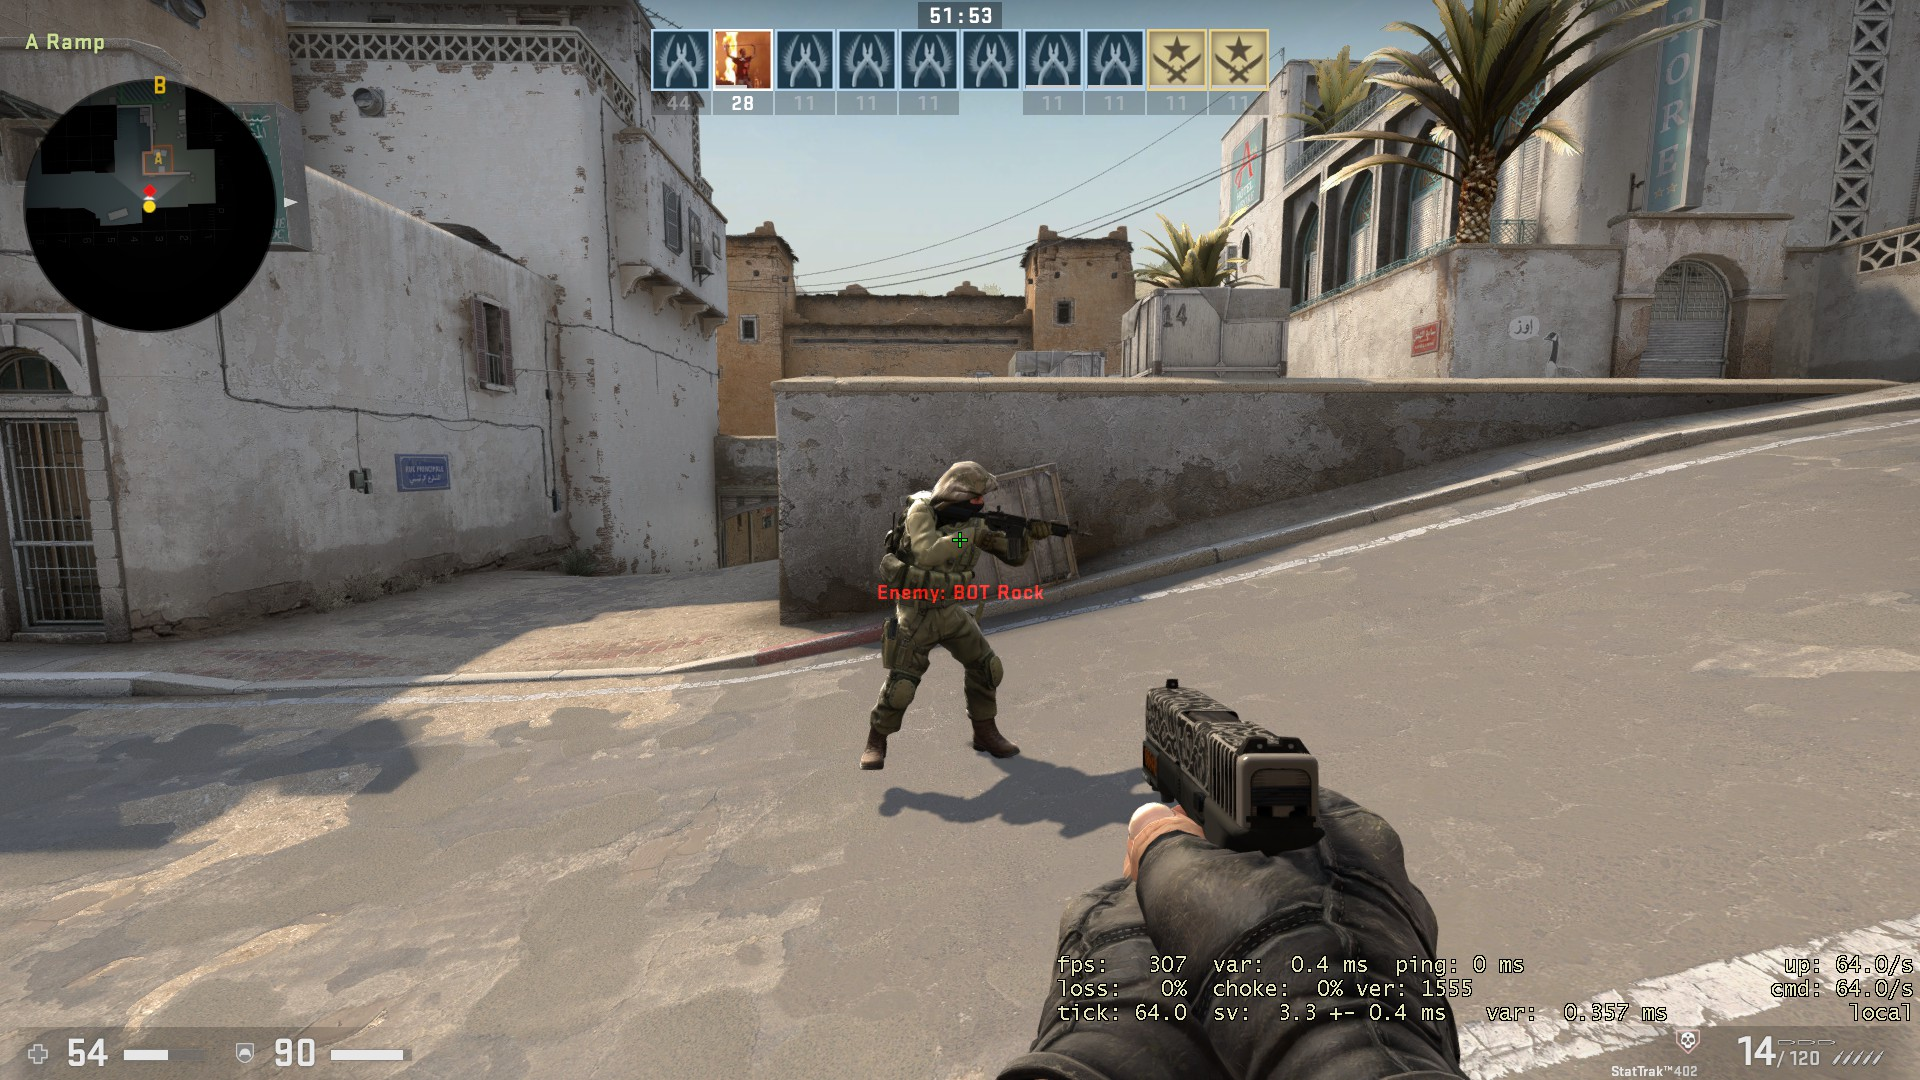ct: (852, 455, 1100, 773)
player: (854, 454, 1095, 775)
